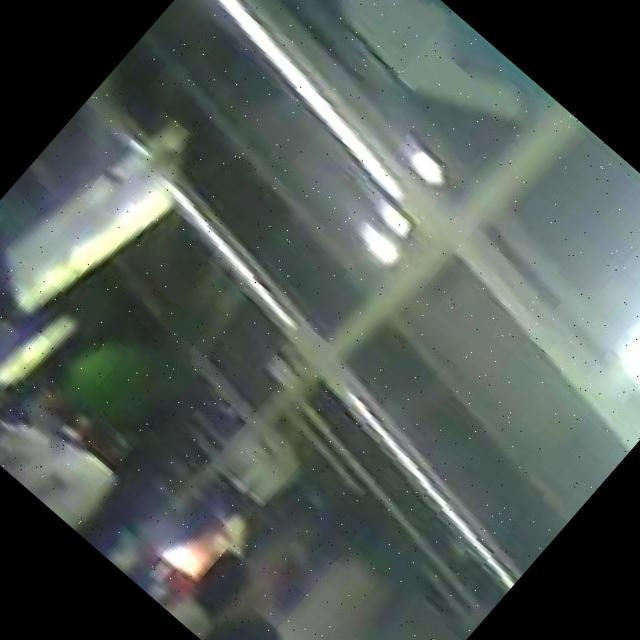person: (16, 390, 182, 556), (165, 539, 272, 640), (0, 381, 90, 490), (0, 257, 33, 416)
